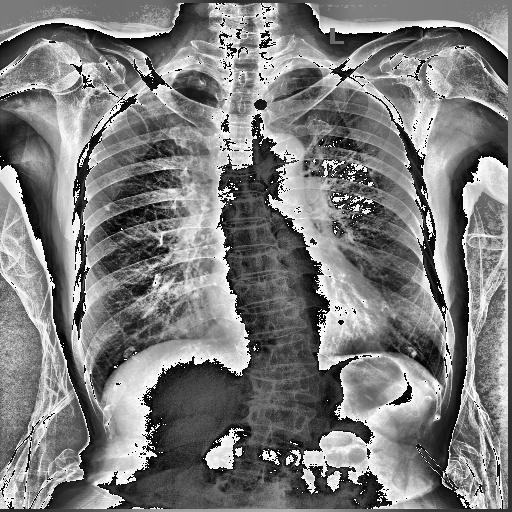0- Aortic enlargement: (252, 133, 304, 172)
11- Pleural thickening: (130, 64, 192, 92), (134, 76, 171, 118), (336, 69, 366, 90)
2- Calcification: (293, 204, 303, 214), (309, 239, 320, 247), (201, 206, 210, 212), (105, 204, 110, 210)
7- Lung Opacity: (134, 76, 171, 118), (142, 97, 173, 118)
9- Other lesion: (142, 97, 173, 118)
